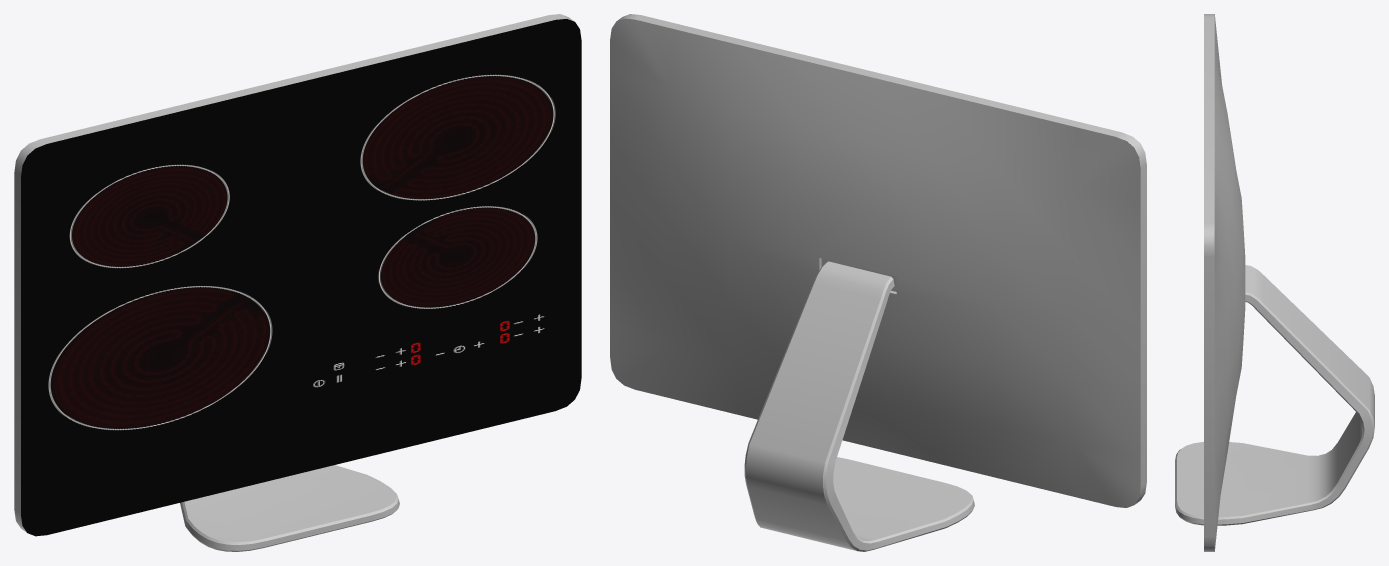
File: Computer_01.FBX
The picture shows the model from 3 angles, left to right: view 1: azimuth 30°, elevation 25°; view 2: azimuth 150°, elevation 25°; view 3: azimuth 270°, elevation 25°; orthographic projection. The views are drawn at different scales.
Parts seen in each view (by area): view 1: Screen, Screen_Border, Computer_01; view 2: Screen_Border, Computer_01; view 3: Computer_01, Screen_Border.
Boxes of the visible parts, x1,y1,x2,y2 form: Screen: [36, 32, 566, 478]; Screen_Border: [14, 14, 581, 536]; Computer_01: [180, 465, 399, 551]; Screen_Border: [610, 14, 1146, 507]; Computer_01: [744, 261, 974, 551]; Computer_01: [1175, 265, 1374, 525]; Screen_Border: [1204, 14, 1245, 551].
Bounding box in the file's own units: 0.8275 × 0.622 × 0.3069.
